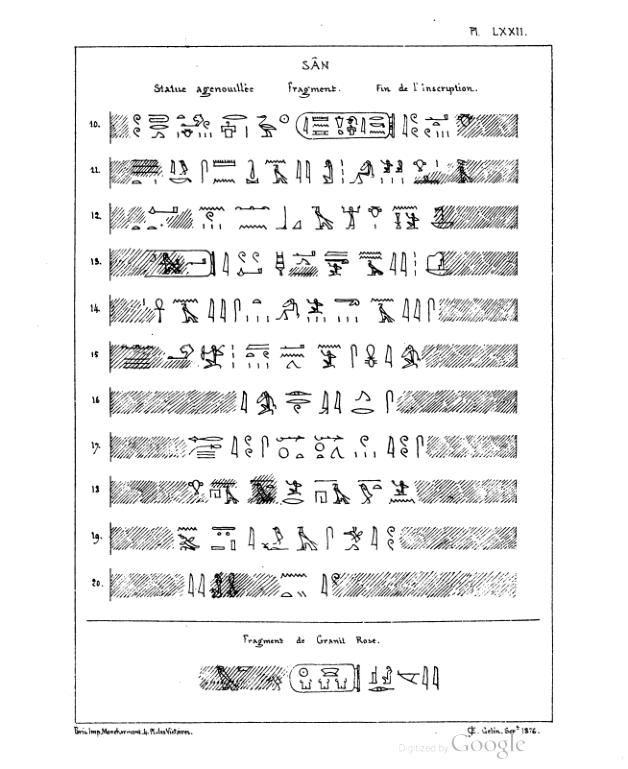circle: (293, 109, 398, 146), (289, 658, 365, 700)
